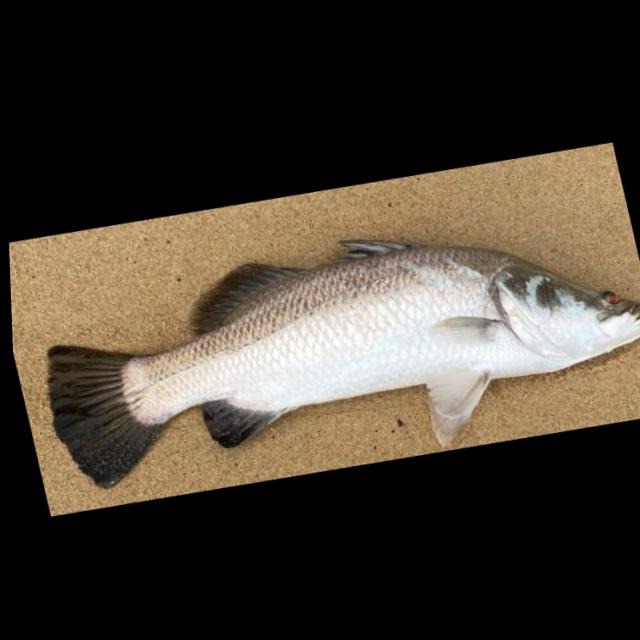Seabass: (20, 176, 640, 523)
